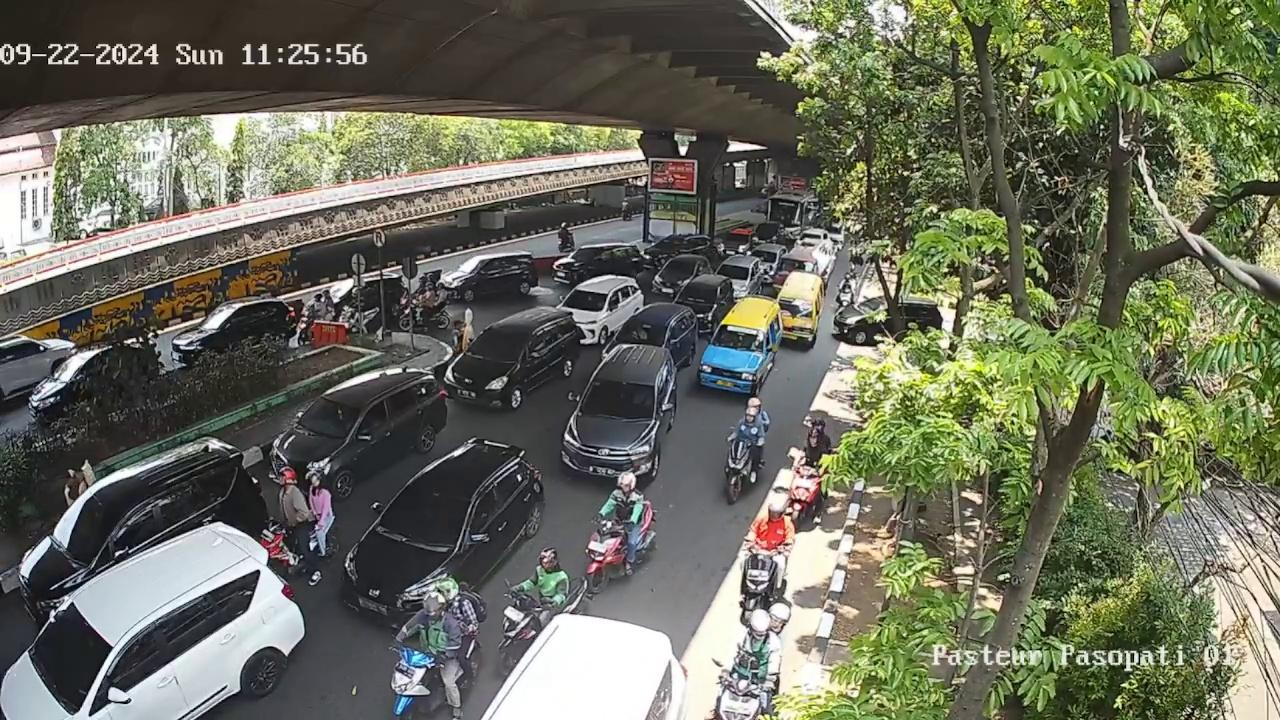pakai: (634, 389, 653, 410), (631, 327, 649, 340)
windshield: (27, 606, 124, 703), (375, 485, 476, 553), (55, 487, 133, 559), (582, 377, 662, 422), (292, 393, 368, 438), (472, 329, 528, 364), (711, 323, 764, 348), (620, 319, 667, 346), (563, 286, 610, 311), (676, 283, 721, 306), (778, 294, 816, 320), (715, 264, 752, 281), (663, 258, 697, 274)
